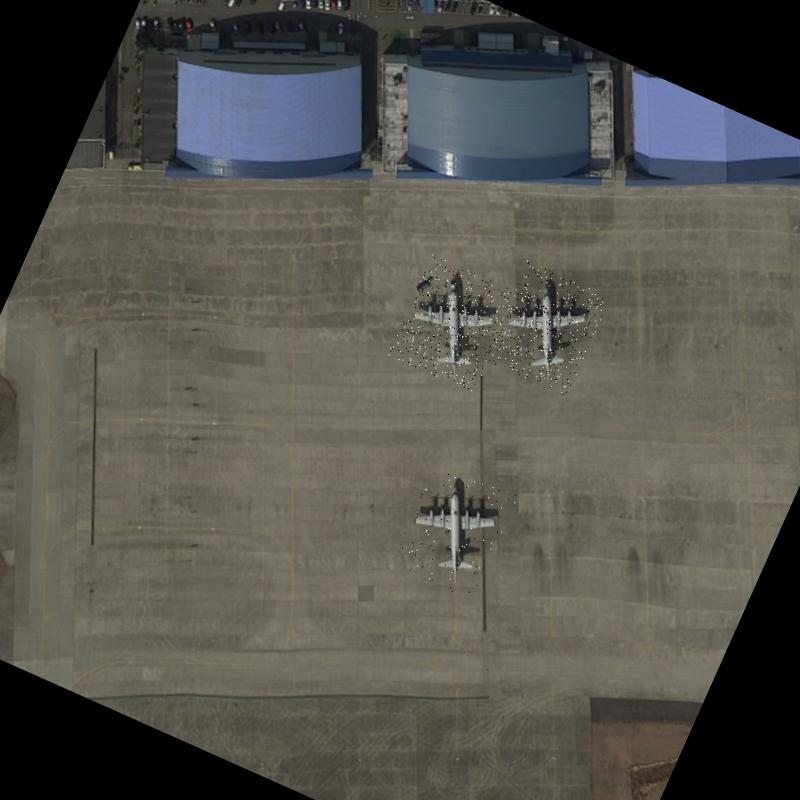A9: (389, 460, 522, 602), (387, 254, 519, 394), (483, 260, 611, 397)
